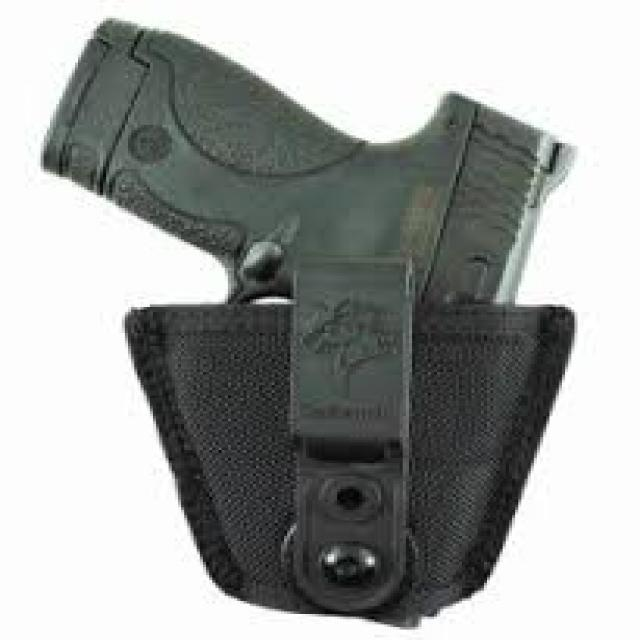semi automatic: (25, 9, 583, 636)
